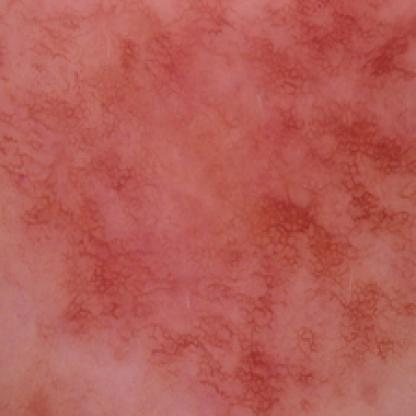benign: (31, 15, 392, 360)
